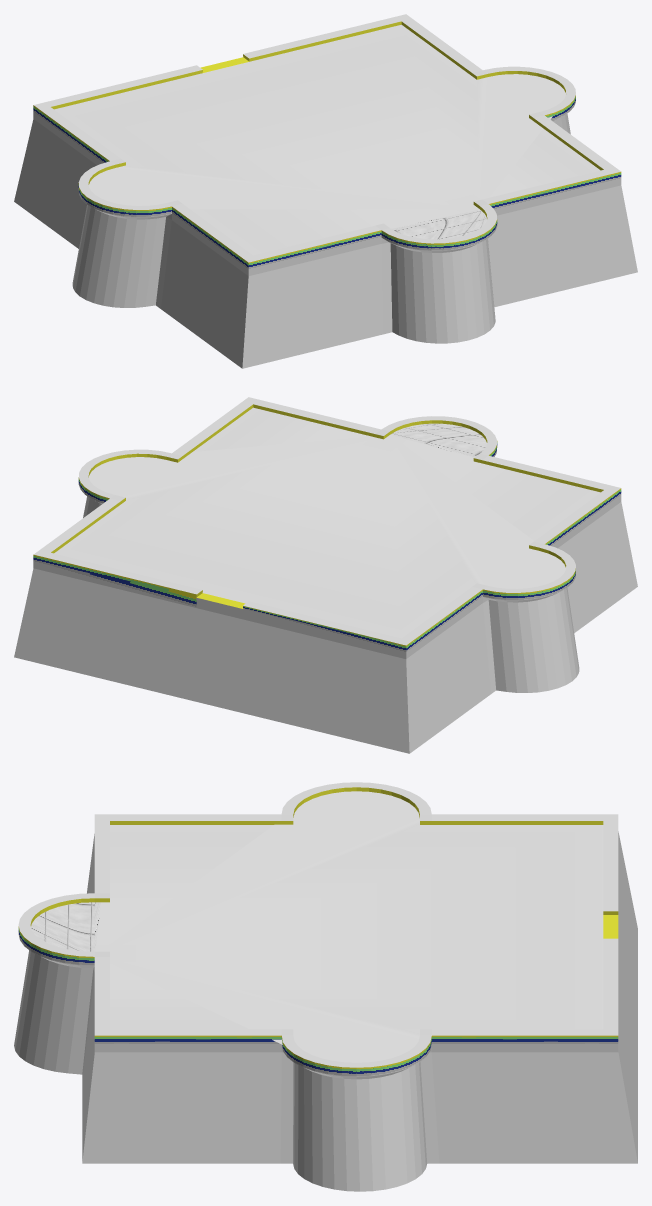
The model's file is MainPlazza.fbx.
3 renders of one model, top to bottom at view 1: azimuth 30°, elevation 25°; view 2: azimuth 150°, elevation 25°; view 3: azimuth 270°, elevation 25°, orthographic. The views are drawn at different scales.
Parts seen in each view (by area): view 1: MainPlazza; view 2: MainPlazza; view 3: MainPlazza.
Boxes of the visible parts, box(x1,y1,x2,y2) form: MainPlazza: box(14, 14, 637, 368); MainPlazza: box(14, 397, 637, 753); MainPlazza: box(14, 782, 637, 1191).
Bounding box in the file's own units: 785 × 708 × 152.
